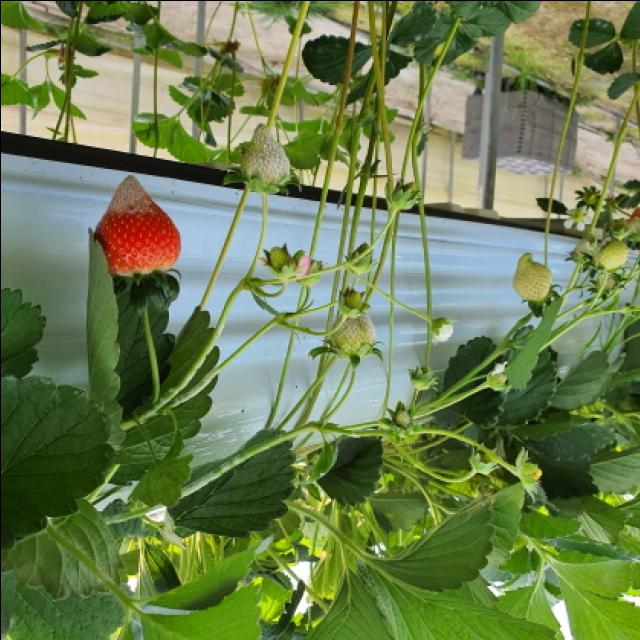Powdery Mildew Fruit: (91, 172, 182, 273), (239, 121, 289, 193), (329, 308, 379, 358)
